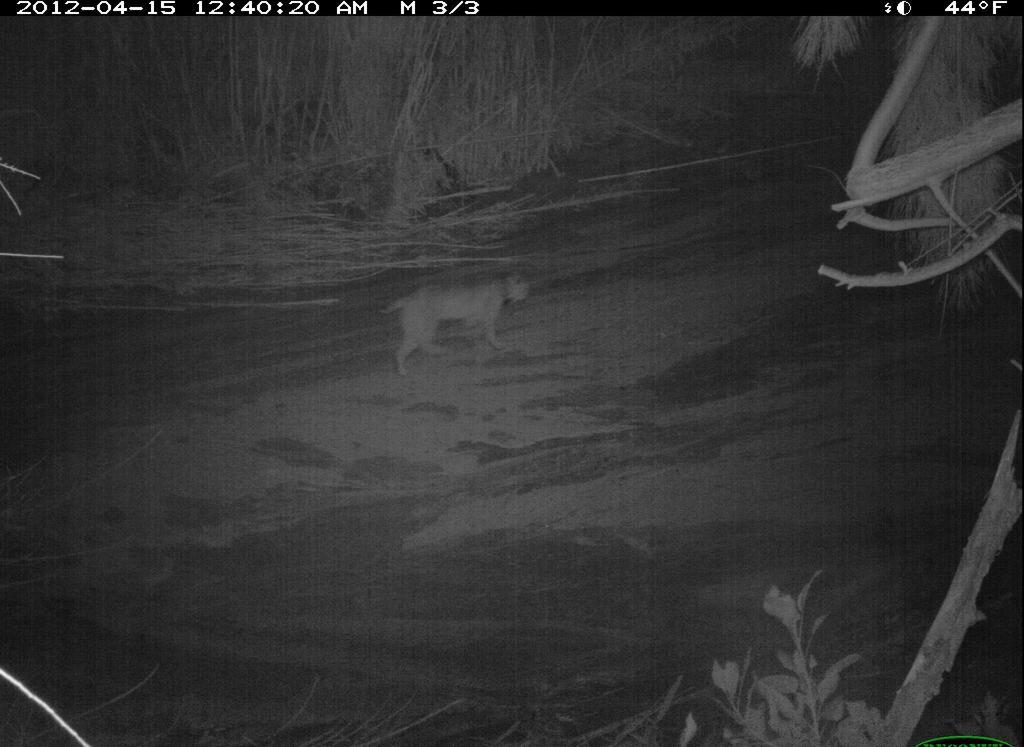bobcat: (377, 268, 539, 383)
